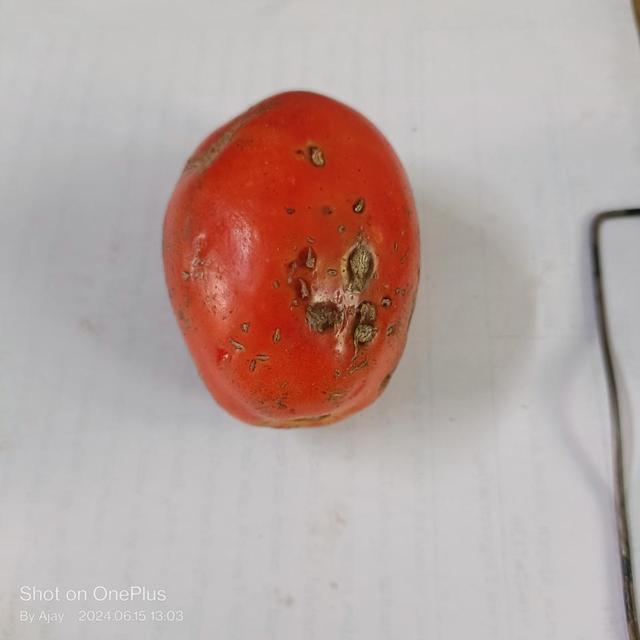Bacterial Spot Fruit: (4, 5, 257, 264)
